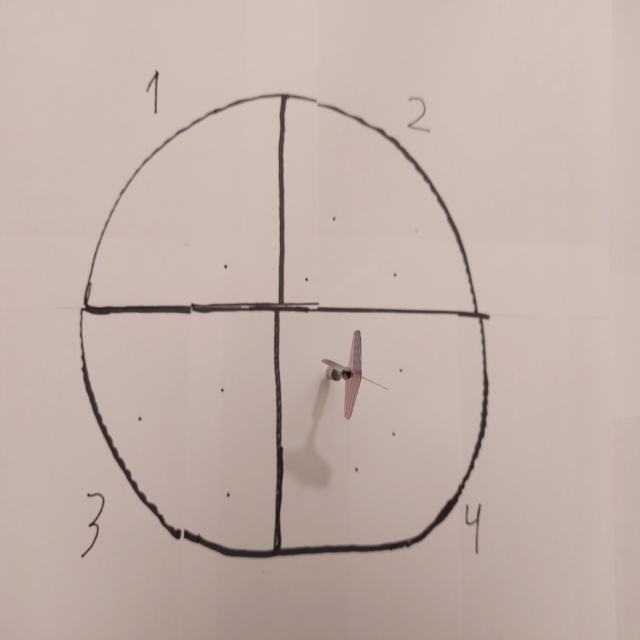Dart: (317, 325, 392, 426)
